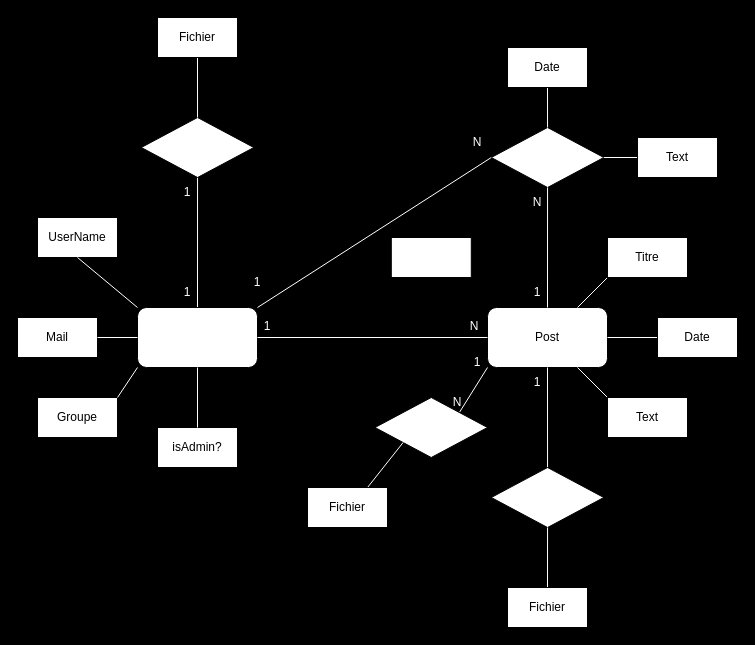
The diagram is 755 pixels wide and 645 high, and some of its shapes have lost their labels. The box of each missing label's shape, as (x1, y1, x2, y2) in pixels:
Comment: (490, 126, 604, 188)
Image: (374, 396, 488, 458)
PofilP: (140, 116, 254, 178)
Status: (390, 236, 471, 278)
User: (136, 306, 258, 368)
Video: (490, 466, 604, 528)
